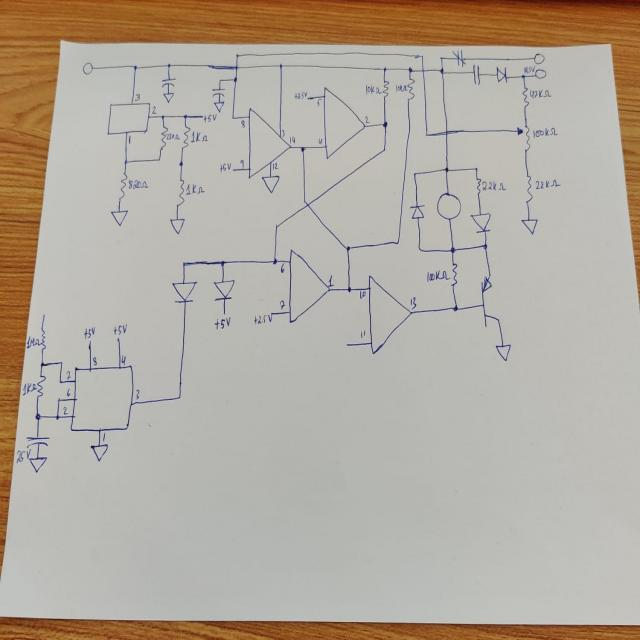capacitor: (26, 435, 49, 447), (160, 77, 177, 89), (211, 88, 226, 99)
crossover: (302, 198, 309, 208), (444, 127, 449, 136), (420, 67, 426, 74), (233, 64, 238, 71)
diode: (171, 279, 197, 304), (212, 278, 235, 301), (470, 211, 492, 234), (409, 203, 425, 220), (496, 65, 508, 84)
ground: (109, 208, 129, 227), (494, 341, 512, 362), (90, 441, 108, 462), (261, 174, 280, 193), (520, 215, 538, 235), (28, 455, 48, 473), (169, 216, 185, 234), (213, 100, 225, 114), (163, 91, 174, 103)
inductor: (436, 191, 461, 221)
junction: (33, 410, 41, 420), (270, 256, 278, 266), (345, 284, 353, 294), (449, 244, 456, 254), (344, 243, 351, 253), (299, 143, 306, 153), (219, 257, 226, 267), (381, 119, 388, 128), (452, 303, 459, 312), (482, 241, 488, 251), (180, 260, 187, 268), (443, 164, 449, 173), (273, 221, 279, 230), (54, 412, 60, 421), (176, 393, 182, 401), (416, 244, 422, 252), (381, 144, 387, 152), (232, 75, 238, 83), (520, 72, 526, 80), (407, 65, 413, 73), (394, 239, 400, 246), (418, 52, 424, 59), (39, 360, 44, 368), (382, 64, 387, 72), (412, 169, 417, 177), (439, 66, 444, 74), (473, 164, 478, 172), (132, 63, 137, 70), (182, 112, 187, 119), (123, 158, 128, 165), (58, 359, 63, 366), (438, 54, 443, 61), (178, 160, 183, 167), (57, 395, 62, 402), (58, 377, 62, 385), (278, 62, 283, 68), (166, 62, 171, 68), (230, 114, 235, 120), (424, 130, 428, 137), (160, 112, 164, 119), (234, 52, 239, 57), (157, 156, 161, 162), (218, 78, 222, 83)
resistor: (516, 122, 532, 153), (118, 170, 128, 198), (524, 171, 532, 205), (181, 124, 191, 149), (176, 176, 184, 206), (35, 374, 45, 397), (450, 260, 458, 288), (520, 86, 528, 110), (380, 79, 390, 98), (39, 323, 46, 350), (406, 78, 414, 101), (160, 125, 168, 148), (475, 176, 481, 194)
switch: (452, 48, 466, 68), (472, 62, 481, 86)
terminal: (532, 68, 546, 80), (533, 52, 545, 65), (82, 61, 93, 75), (343, 339, 351, 349), (220, 310, 228, 318), (364, 114, 369, 124), (115, 335, 122, 342), (87, 337, 92, 346), (40, 311, 46, 318), (306, 95, 310, 101), (200, 114, 204, 118), (230, 168, 234, 172), (269, 311, 272, 316)
text: (482, 178, 507, 192), (532, 126, 558, 139), (426, 268, 450, 282), (534, 177, 561, 189), (213, 314, 232, 330), (126, 177, 148, 190), (528, 87, 551, 99), (16, 447, 32, 464), (252, 311, 274, 323), (186, 181, 204, 195), (364, 82, 381, 96), (190, 130, 209, 142), (22, 380, 38, 394), (163, 130, 180, 142), (113, 322, 127, 336), (25, 334, 40, 347), (218, 160, 232, 173), (203, 112, 217, 124), (83, 326, 95, 338), (293, 90, 307, 100), (522, 65, 536, 75), (326, 273, 335, 288), (395, 83, 408, 93), (358, 288, 367, 300), (409, 295, 417, 308), (278, 298, 286, 310), (279, 262, 286, 274), (91, 354, 98, 366), (65, 386, 72, 397), (289, 133, 296, 144), (120, 355, 127, 366), (239, 158, 245, 170), (134, 388, 140, 400), (150, 105, 157, 115), (125, 134, 132, 144), (272, 161, 279, 171), (62, 405, 69, 415), (360, 328, 366, 339), (316, 136, 324, 144), (240, 118, 246, 128), (66, 370, 72, 380), (315, 98, 321, 107), (134, 92, 140, 101), (281, 128, 285, 139), (102, 431, 106, 442)
transistor: (477, 272, 501, 330)
